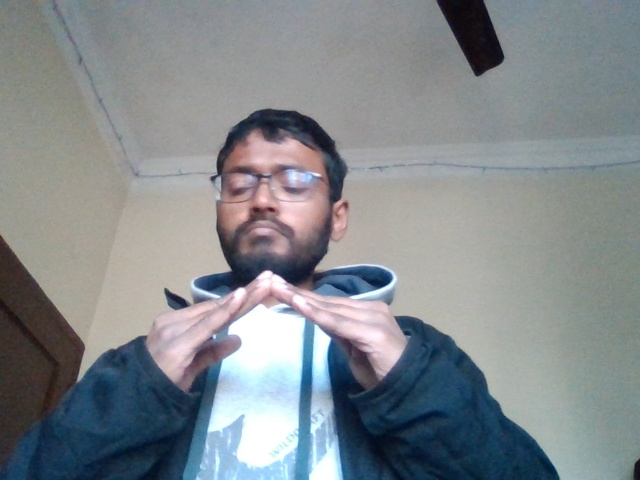house: (150, 275, 410, 397)
